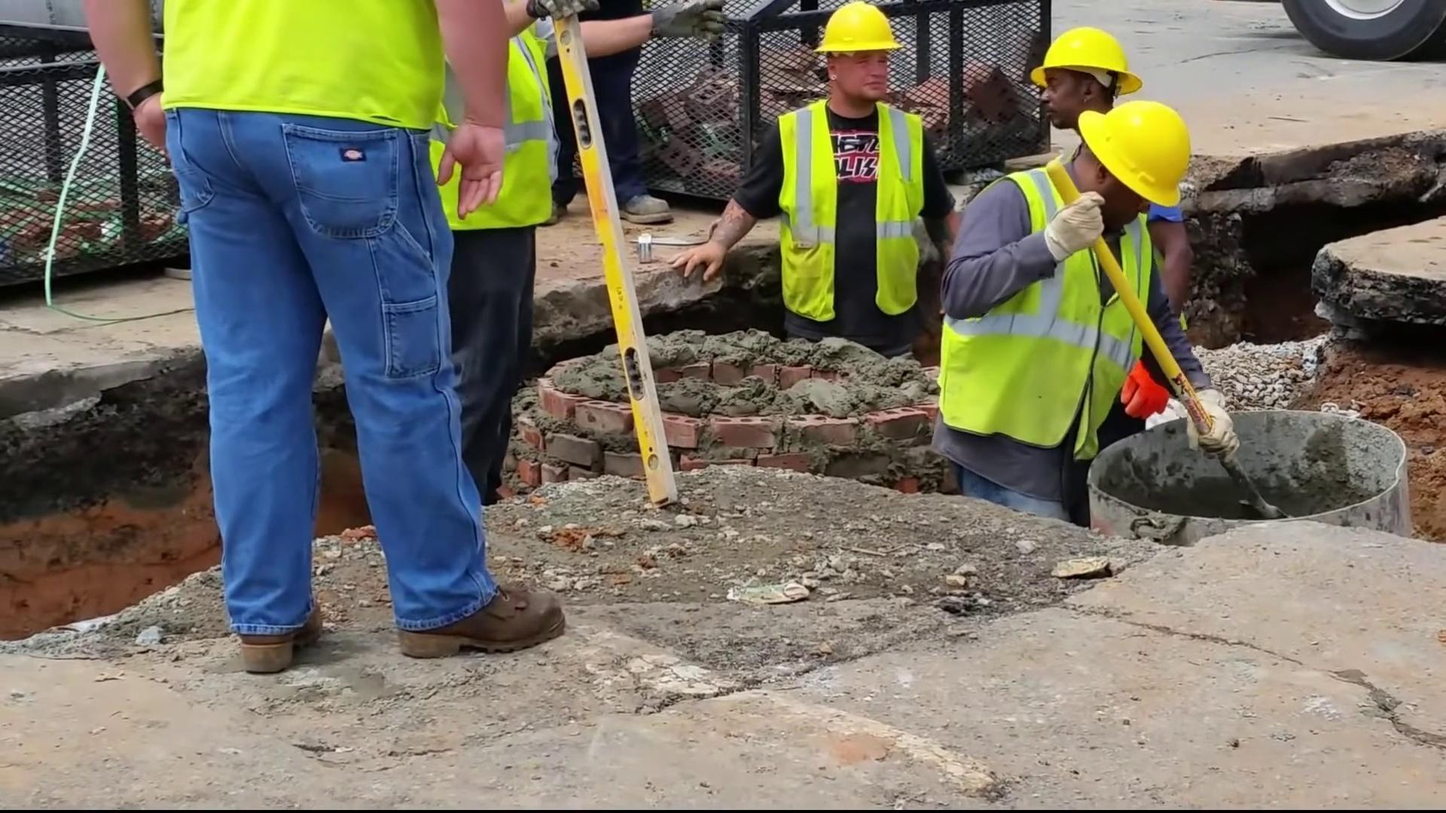apron: (1026, 188, 1110, 260), (1115, 349, 1174, 429), (1178, 385, 1244, 454), (652, 0, 728, 41)
